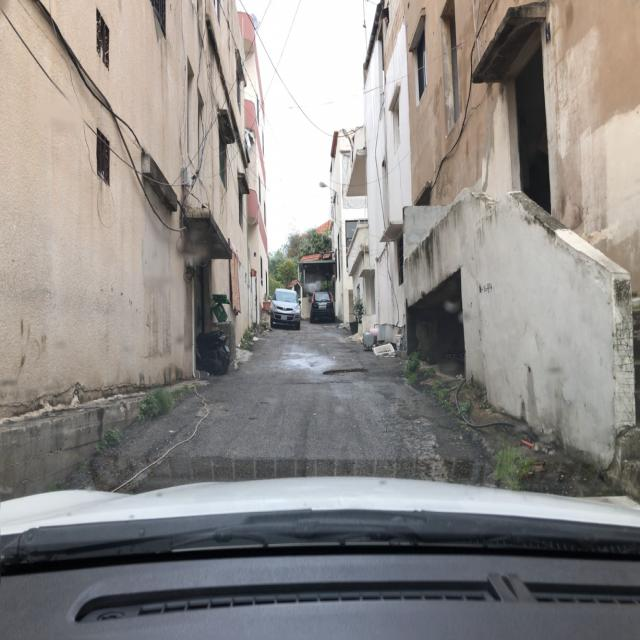Pothole: (321, 368, 370, 378)
